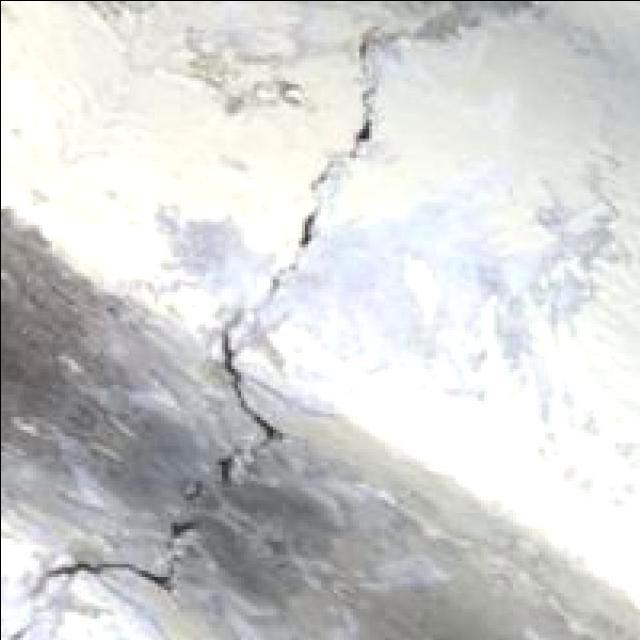SurfaceCrack: (38, 88, 438, 604)
